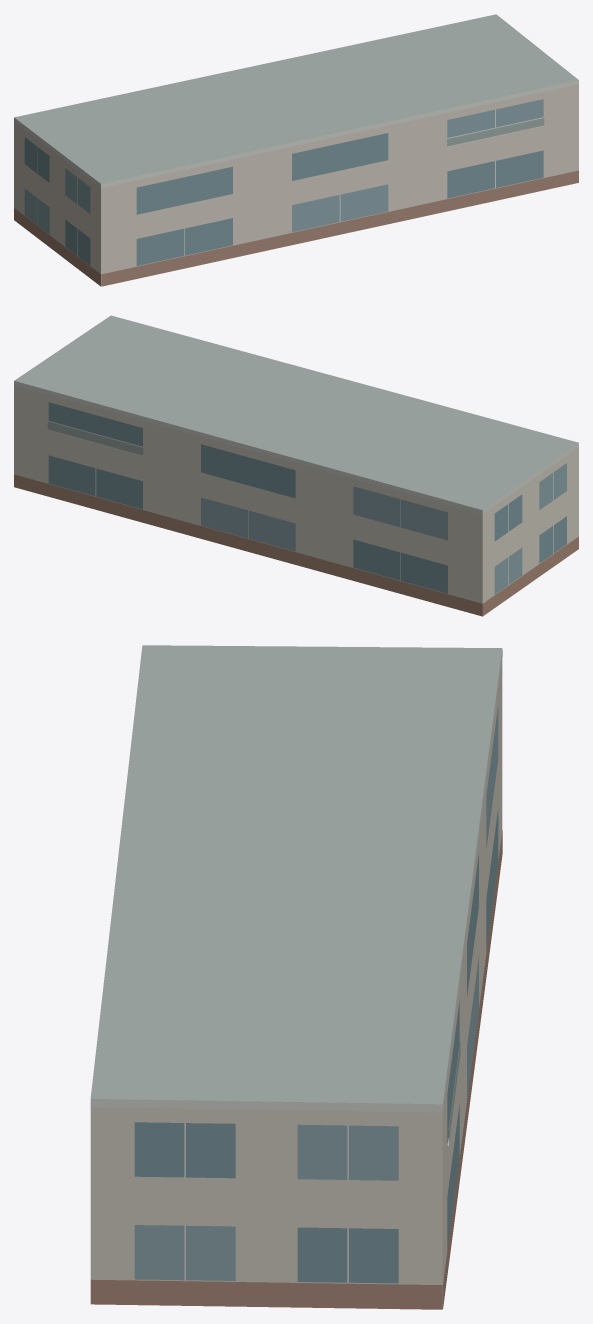
File: survey-upis-32608605.glb
The picture shows the model from 3 angles, top to bottom: view 1: azimuth 30°, elevation 25°; view 2: azimuth 150°, elevation 25°; view 3: azimuth 270°, elevation 25°; orthographic projection. The views are drawn at different scales.
Visible parts, largest first — view 1: survey-upis-32608605.tmp; view 2: survey-upis-32608605.tmp; view 3: survey-upis-32608605.tmp.
Boxes of the visible parts, x1,y1,x2,y2 form: survey-upis-32608605.tmp: (14,14,578,286); survey-upis-32608605.tmp: (14,315,578,616); survey-upis-32608605.tmp: (90,645,502,1309).
Bounding box in the file's own units: 29.24 × 6.1 × 11.09.
